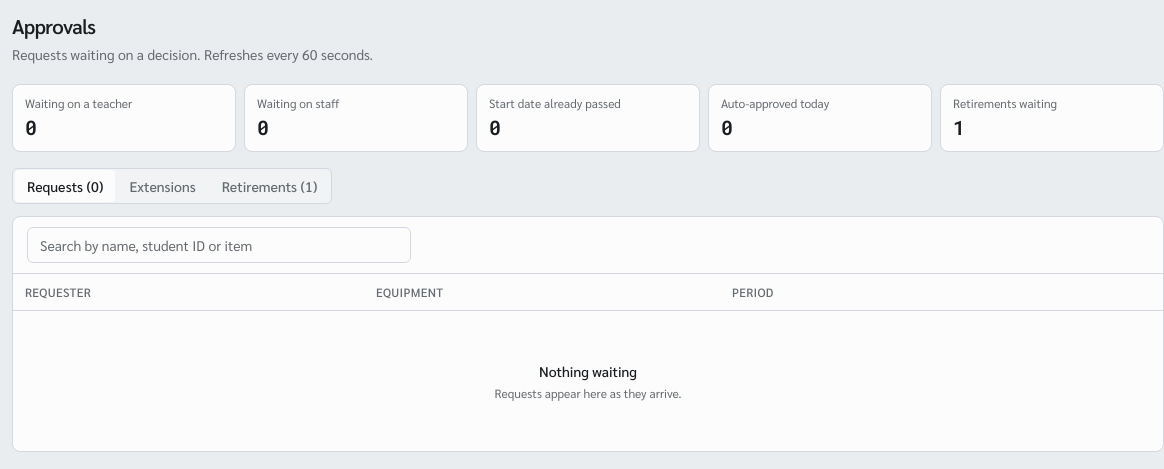
Test case: Supervisor approvals: Retirements tab › renders the pending retirement row
Click the tab "Retirements (1)" at (270, 186), box x1=210 y1=170 x2=330 y2=202
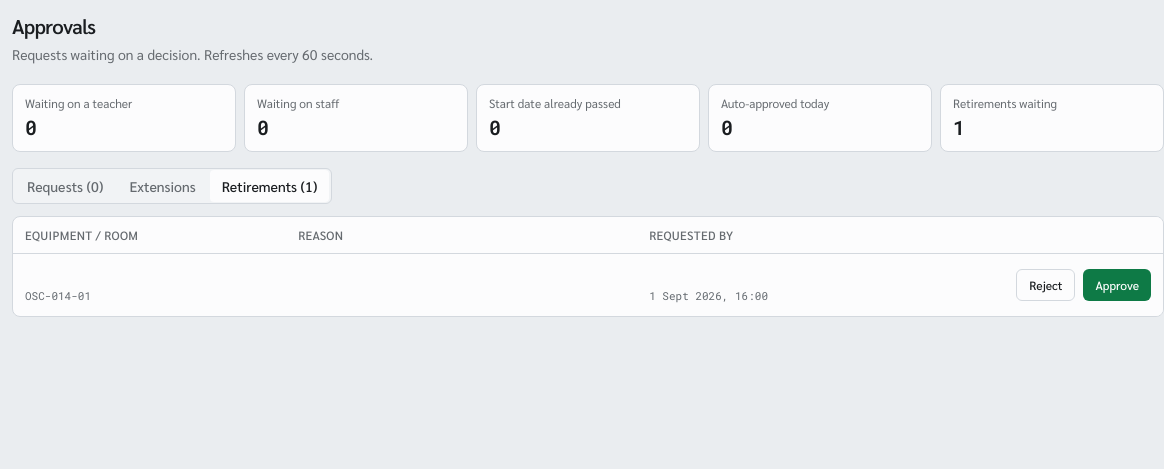
Expected: the text "OSC-014-01" is shown, x1=25 y1=288 x2=91 y2=302
